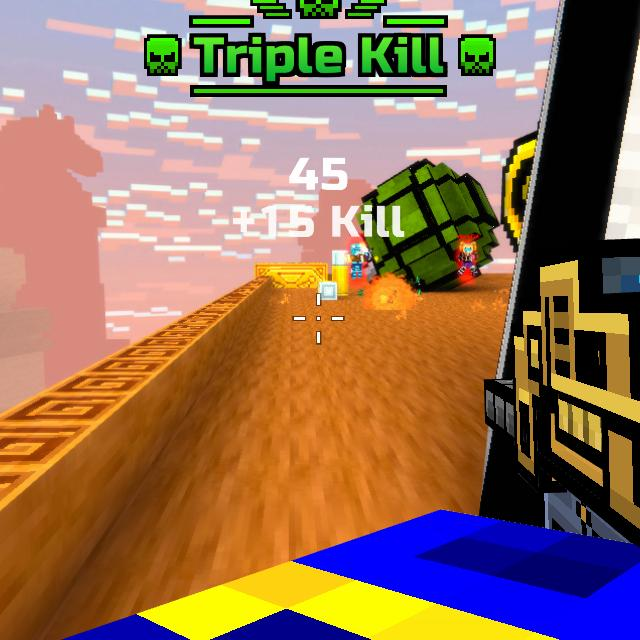Enemy: (457, 240, 478, 276), (351, 244, 367, 279)
